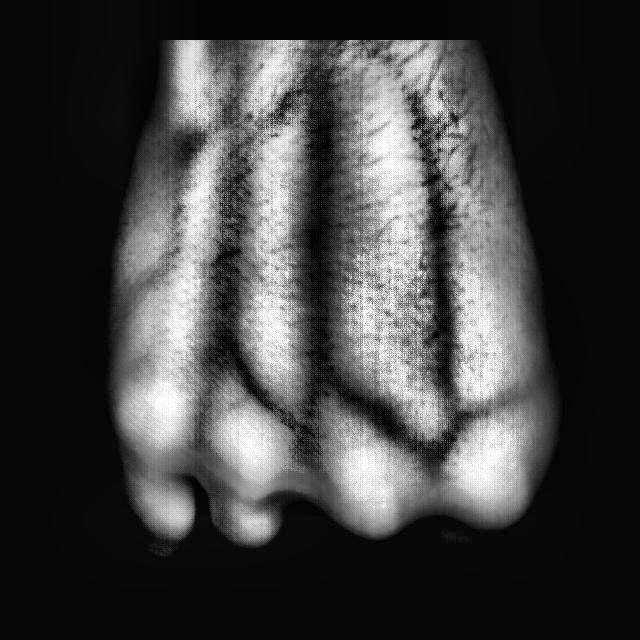Vein: (391, 86, 460, 325), (298, 101, 343, 351)
